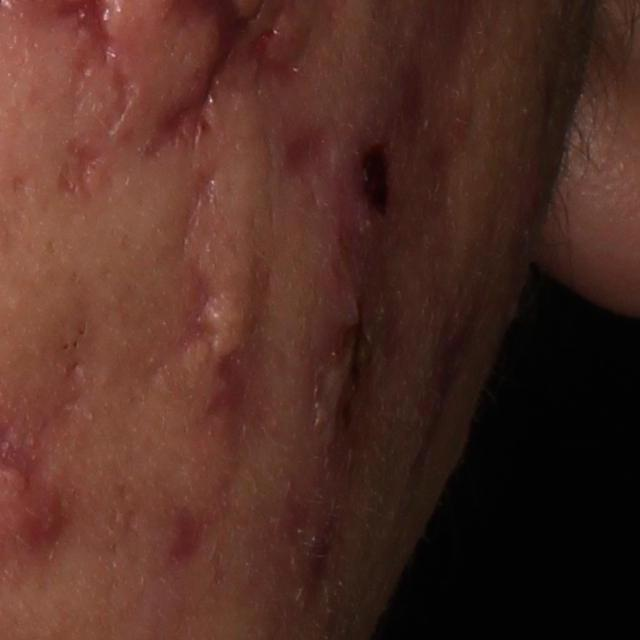atrophic_scar: (204, 257, 278, 447), (172, 168, 219, 359), (275, 116, 352, 189), (24, 480, 103, 550), (55, 136, 111, 204), (158, 503, 220, 564)
hypertrophic_scar: (206, 294, 254, 366)
